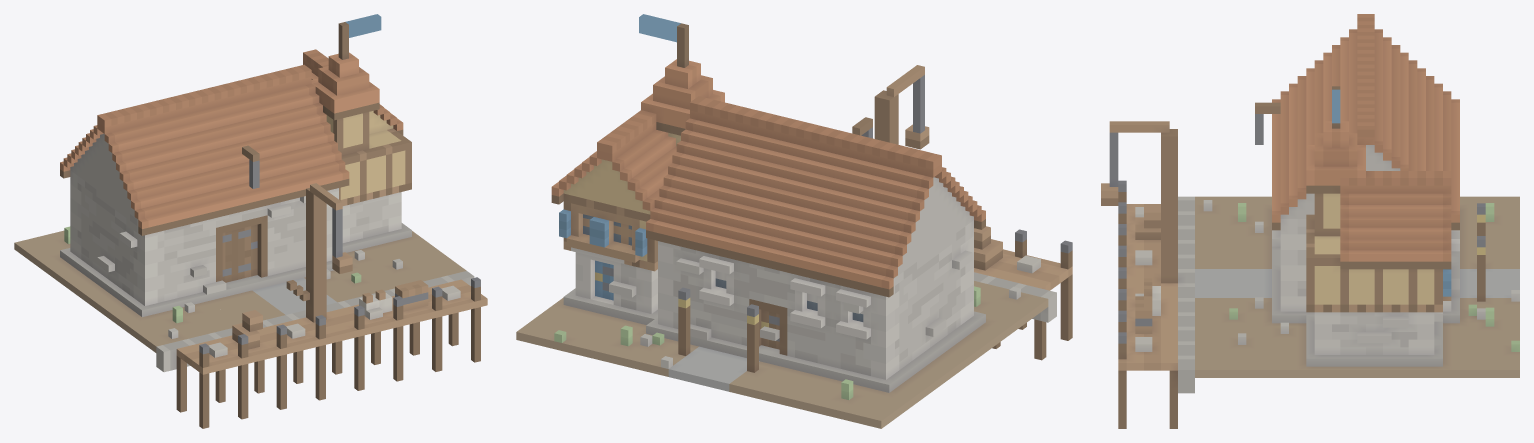
File: trading_post.l4.glb
3 views of the same model, side by side, from view 1: azimuth 30°, elevation 25°; view 2: azimuth 150°, elevation 25°; view 3: azimuth 270°, elevation 25° (orthographic). The views are drawn at different scales.
Visible parts, largest first — view 1: trading_post; view 2: trading_post; view 3: trading_post.
Part boxes in pixels (left/top/right/bottom): trading_post: left=14, top=14, right=487, bottom=428; trading_post: left=516, top=14, right=1072, bottom=428; trading_post: left=1101, top=14, right=1519, bottom=428.
Size of the model in its own units: 6 by 5.12 by 6.12.
